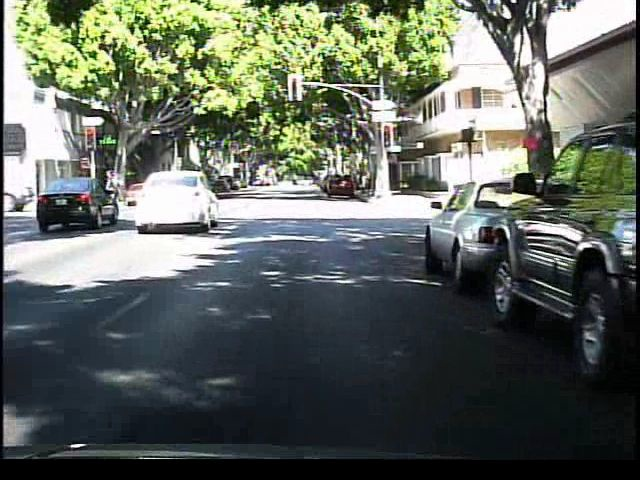person: (104, 163, 130, 204)
